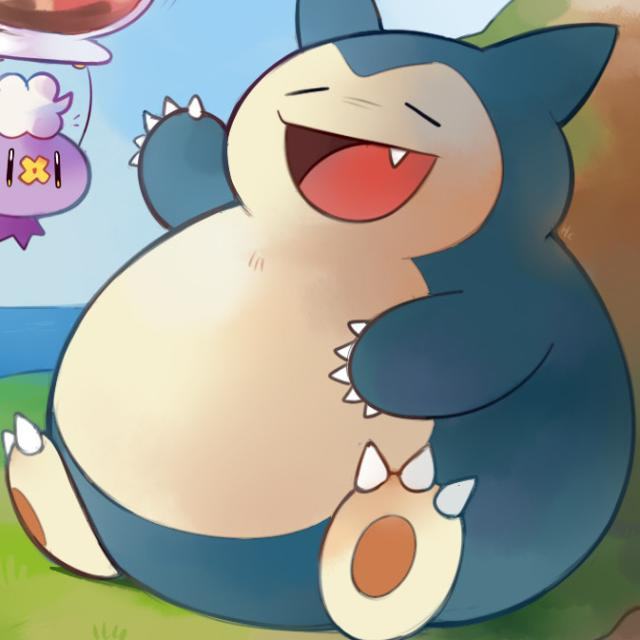Snorlax: (87, 33, 534, 594)
